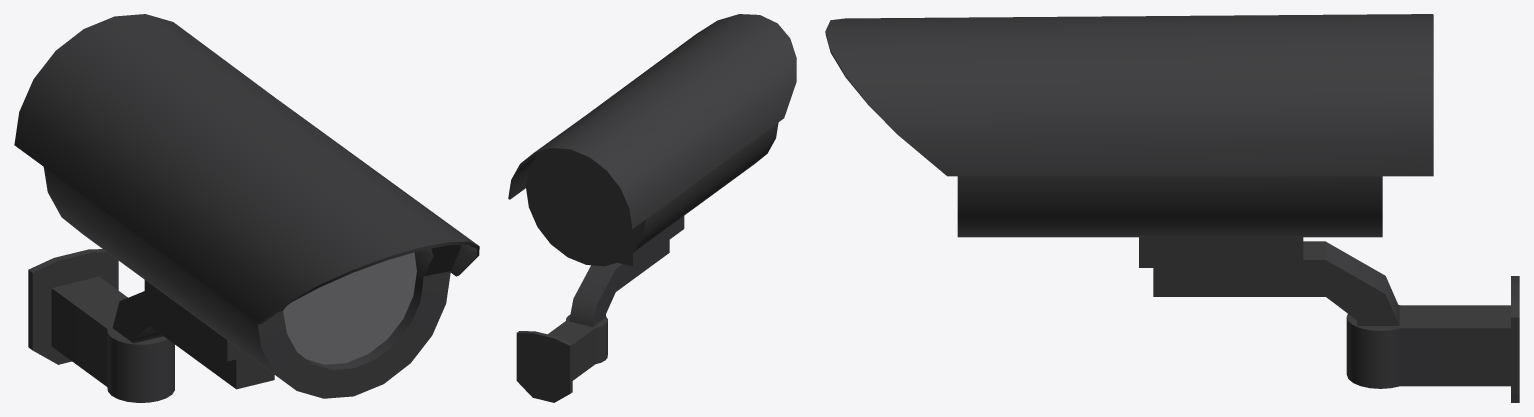
The model's file is Camera 1.fbx.
3 renders of one model, left to right at view 1: azimuth 30°, elevation 25°; view 2: azimuth 150°, elevation 25°; view 3: azimuth 270°, elevation 25°, orthographic. The views are drawn at different scales.
Parts seen in each view (by area): view 1: Camera_1; view 2: Camera_1; view 3: Camera_1.
Part boxes in pixels (bbox=[...]): Camera_1: bbox=[14, 14, 479, 402]; Camera_1: bbox=[508, 14, 796, 402]; Camera_1: bbox=[825, 14, 1519, 402].
Size of the model in its own units: 17.52 by 31.17 by 52.9.
